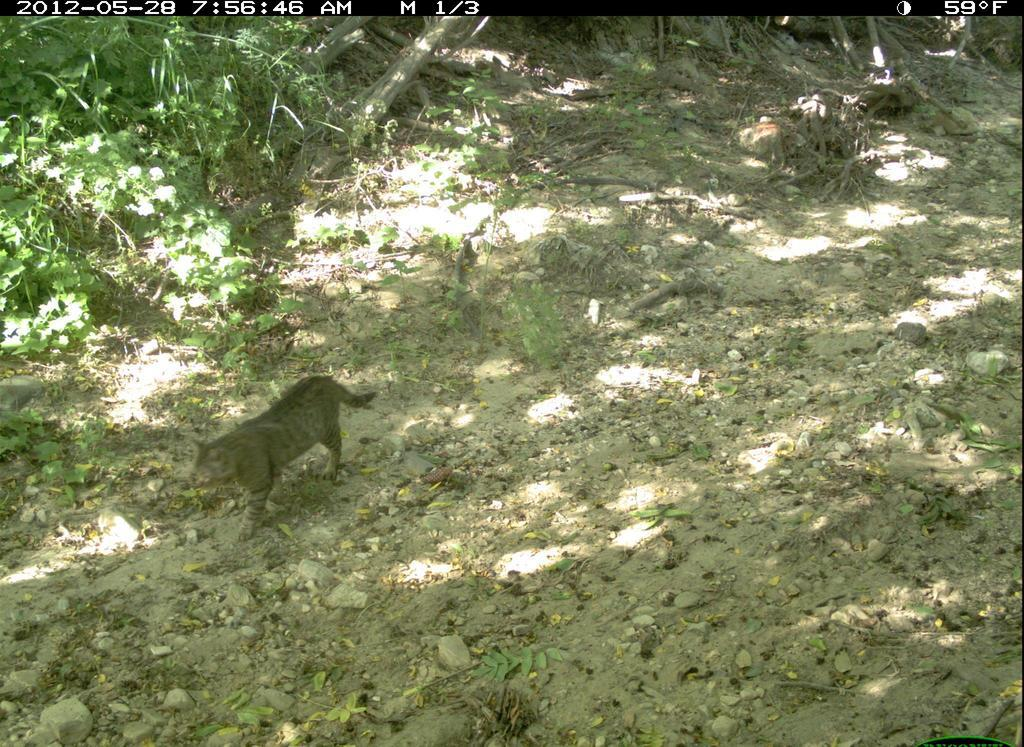cat: (182, 377, 391, 543)
